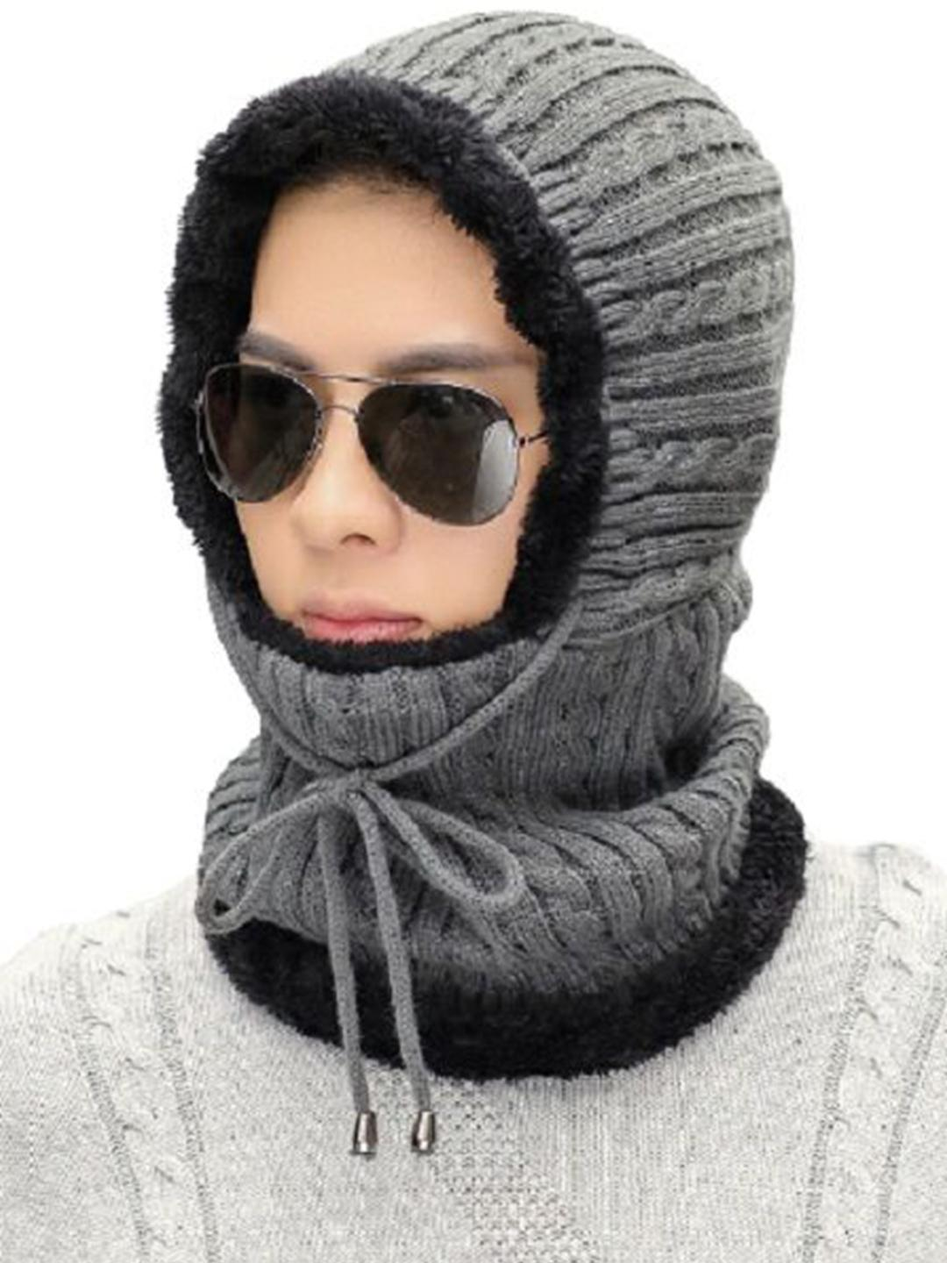scarf-kerchief: (152, 9, 824, 1079)
sunglasses: (184, 351, 555, 526)
